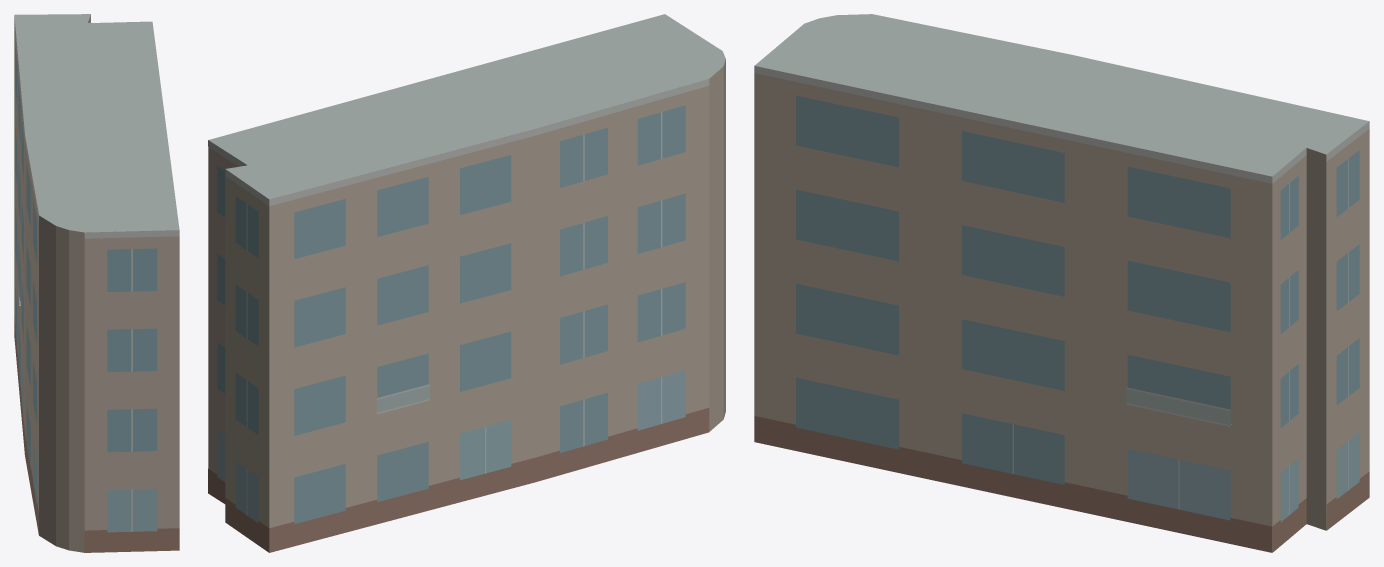
Rendered from survey-upis-32728719.glb.
3 renders of one model, left to right at view 1: azimuth 30°, elevation 25°; view 2: azimuth 150°, elevation 25°; view 3: azimuth 270°, elevation 25°, orthographic. The views are drawn at different scales.
Visible parts, largest first — view 1: survey-upis-32728719.tmp; view 2: survey-upis-32728719.tmp; view 3: survey-upis-32728719.tmp.
Boxes of the visible parts, left/top/right/bottom form: survey-upis-32728719.tmp: left=14, top=14, right=179, bottom=552; survey-upis-32728719.tmp: left=208, top=14, right=725, bottom=552; survey-upis-32728719.tmp: left=754, top=14, right=1369, bottom=552.
Bounding box in the file's own units: 11.78 × 12.7 × 18.83.
